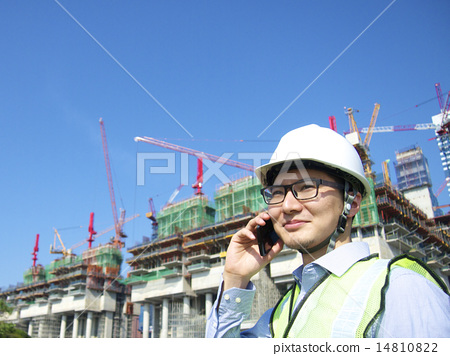phone: (243, 207, 277, 261)
talk: (229, 175, 334, 268)
